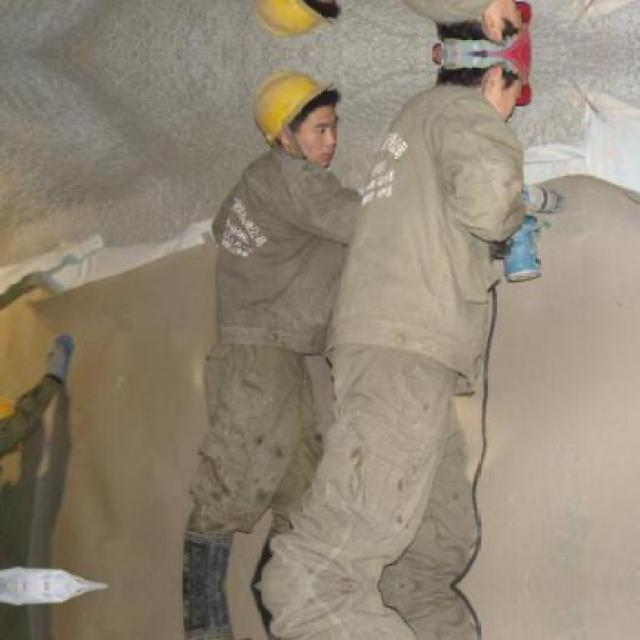helmet: (248, 65, 346, 168), (426, 56, 540, 128), (426, 0, 542, 54), (248, 0, 348, 45)
